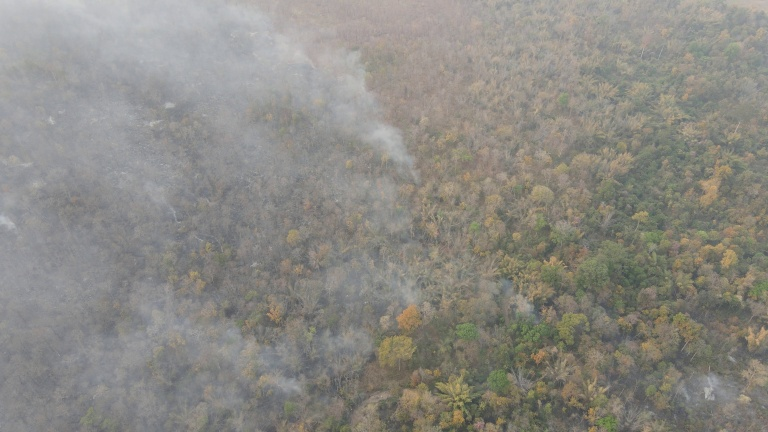smoke: (1, 1, 440, 430), (679, 363, 747, 415), (493, 270, 537, 327)
